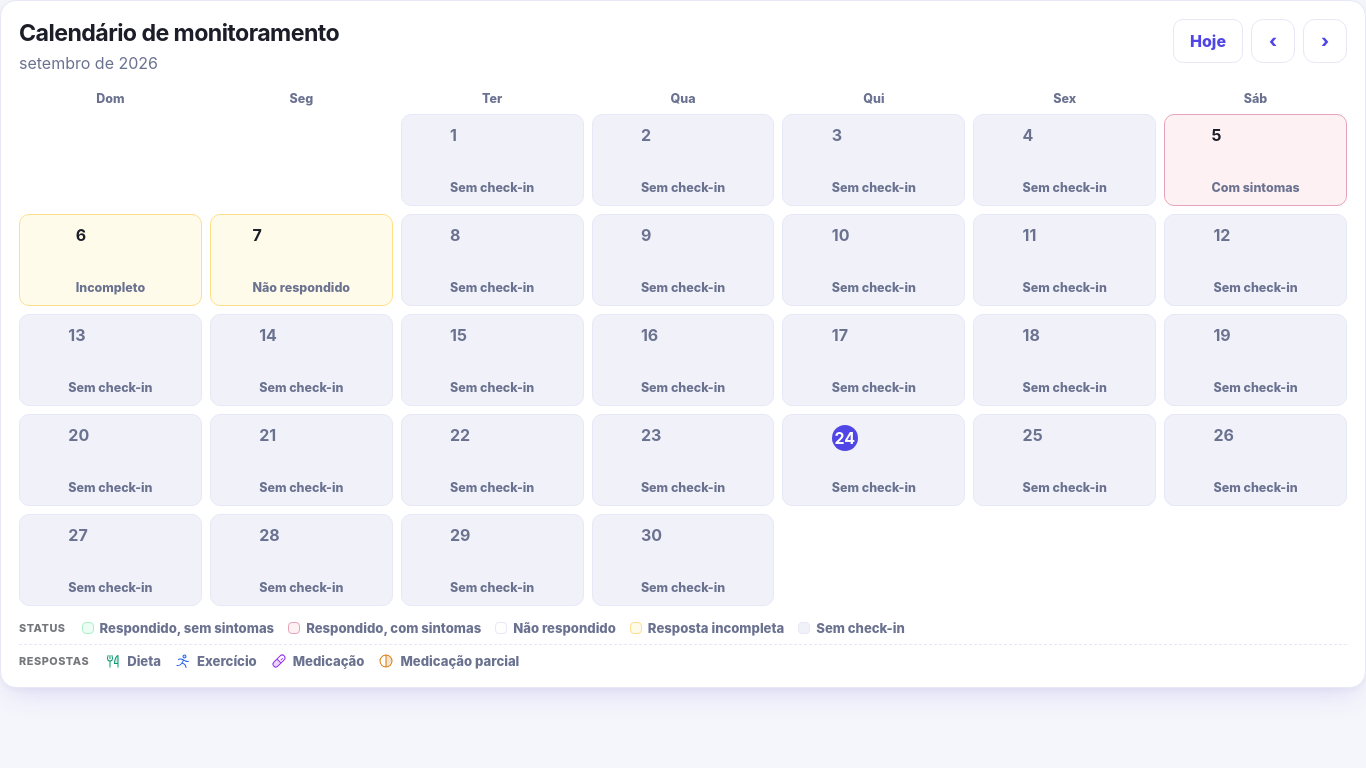
Test: calendário de monitoramento (visão do profissional, somente leitura) › distingue "Incompleto" (respondeu parte) de "Não respondido" (nada respondido)
Expected: the button "7 Não respondido" is shown, [210,214,393,306]
Click the button "6 Incompleto" at (110, 260), box [19,214,202,306]
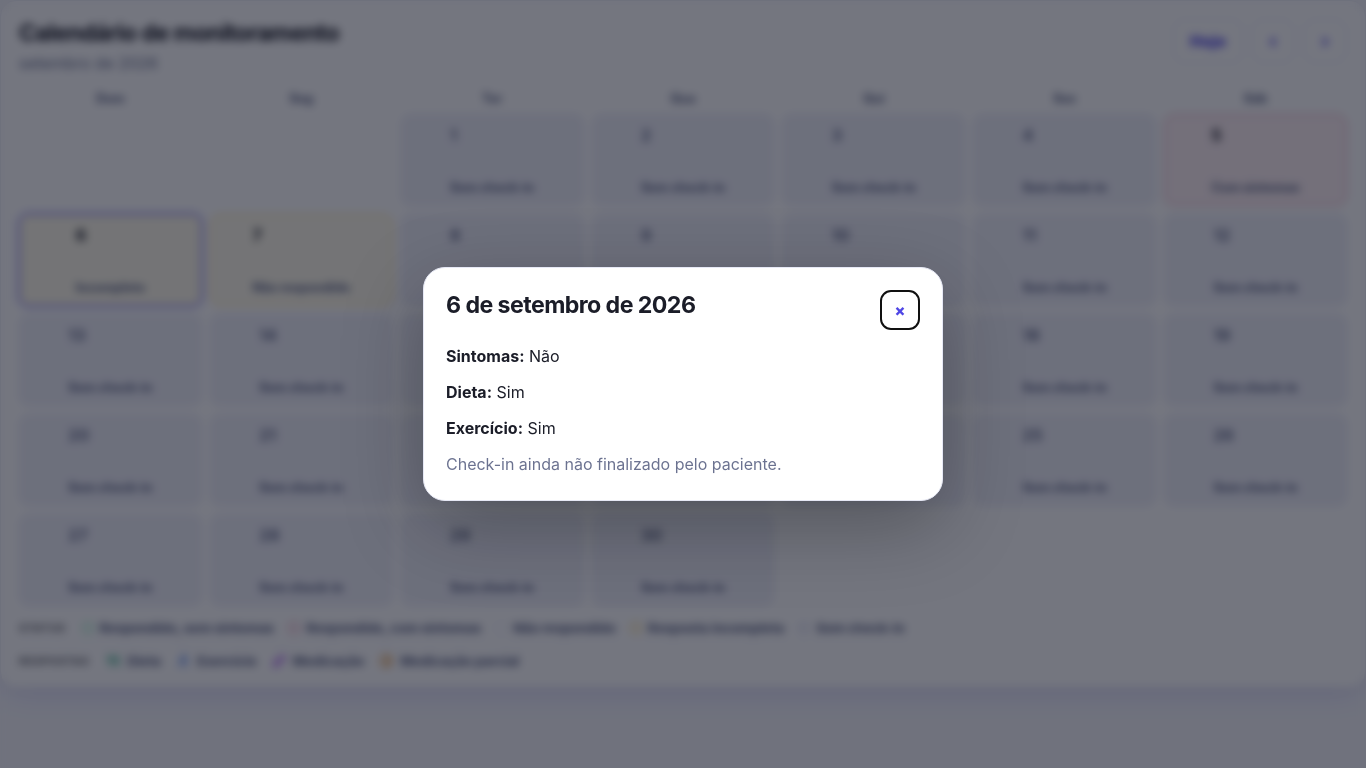
Expected: the text "Resposta incompleta" is shown, [630,620,784,636]
Expected: the text "Check-in ainda não finalizado pelo paciente." is shown, [446,454,782,474]
Expected: the text "Sim" is shown 2 times, [446,382,525,402]; [446,418,556,438]
